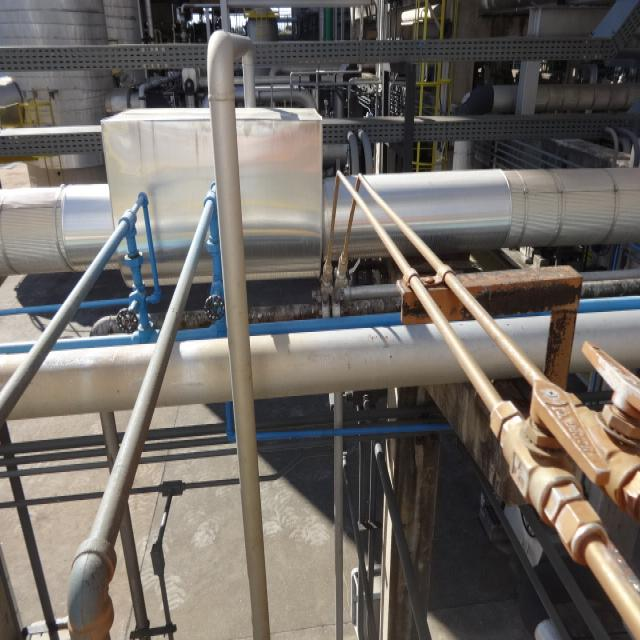gas: (337, 164, 640, 635), (356, 170, 640, 515), (0, 312, 640, 423), (65, 193, 220, 639), (0, 170, 640, 275), (0, 294, 640, 354), (209, 33, 272, 640), (0, 196, 147, 418), (5, 207, 162, 318), (373, 444, 429, 636), (329, 395, 347, 640), (262, 424, 457, 441)
